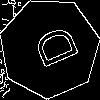D: (24, 23, 80, 74)
